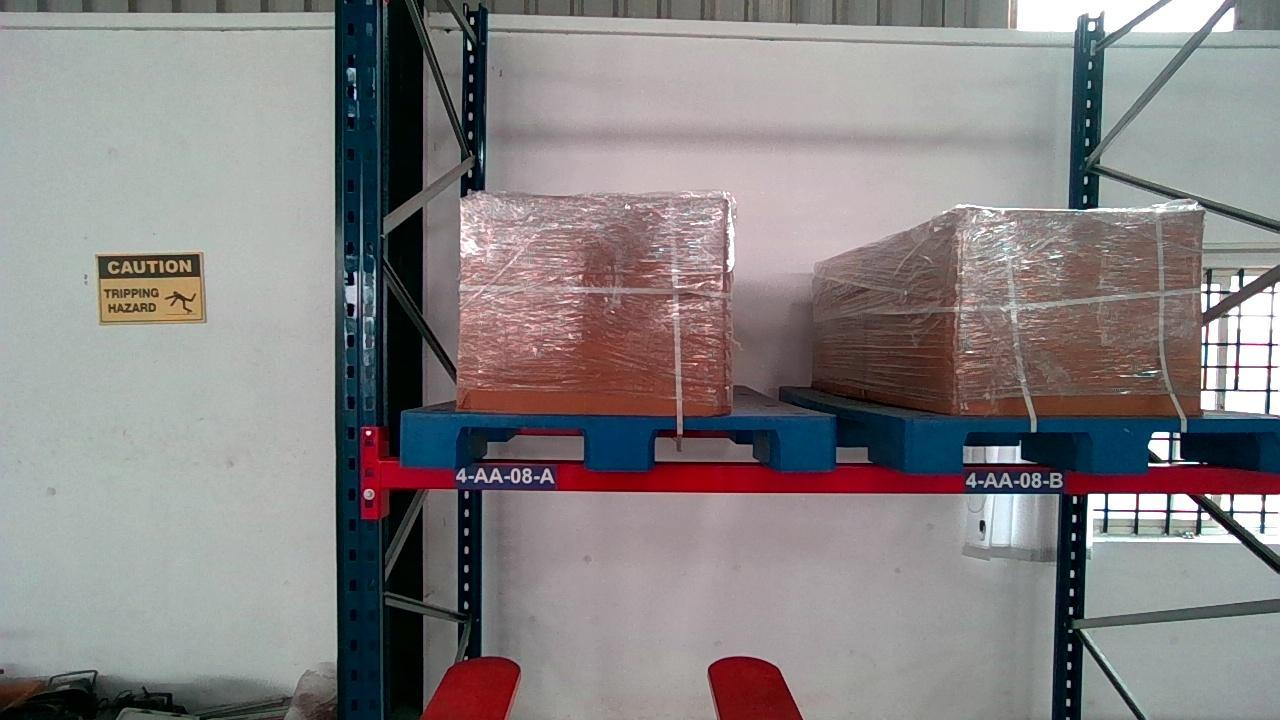h_rack: (380, 460, 1279, 487)
small_pallet: (402, 413, 834, 467), (913, 419, 1279, 472)
